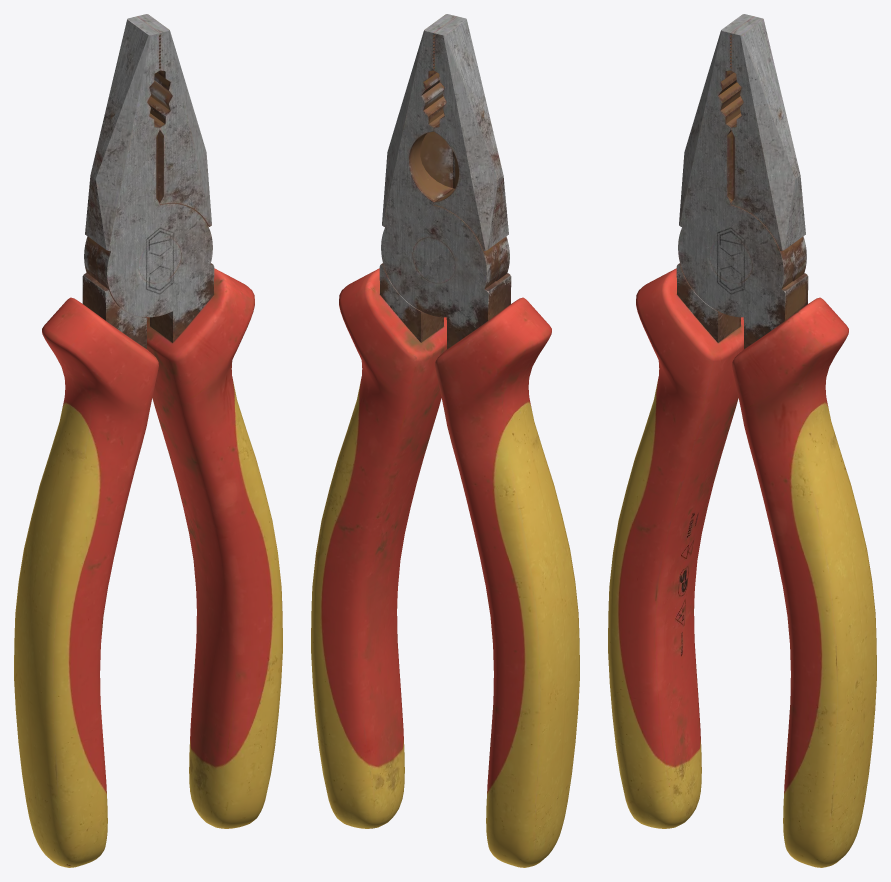
Rendered from pliers.glb.
3 renders of one model, left to right at view 1: azimuth 30°, elevation 25°; view 2: azimuth 150°, elevation 25°; view 3: azimuth 330°, elevation 25°, orthographic.
Parts seen in each view (by area): view 1: pliers_b, pliers_a, pliers_pin; view 2: pliers_a, pliers_b, pliers_pin; view 3: pliers_b, pliers_a, pliers_pin.
Part boxes in pixels (box(x1,y1,x2,y2)): pliers_b: box(85, 16, 282, 828); pliers_a: box(14, 14, 211, 867); pliers_pin: box(138, 237, 181, 283); pliers_a: box(381, 14, 579, 867); pliers_b: box(311, 16, 509, 828); pliers_pin: box(412, 237, 455, 283); pliers_b: box(678, 14, 876, 867); pliers_a: box(608, 16, 806, 828); pliers_pin: box(709, 237, 752, 283).
Bounding box in the file's own units: 0.0553 × 0.1798 × 0.018.
Materials: 1 (1 with a texture image).
